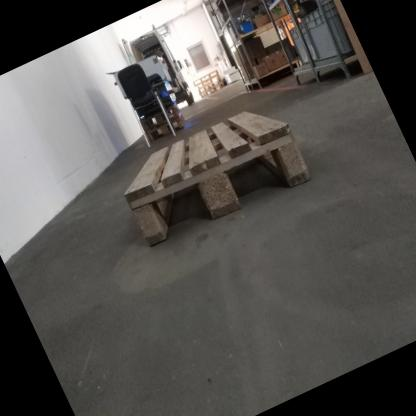BoxFace: (121, 106, 316, 249)
